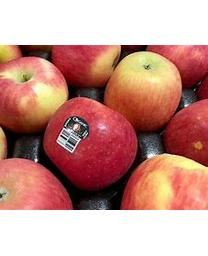apple: (41, 96, 137, 192), (106, 51, 181, 135), (0, 55, 68, 132), (123, 154, 207, 209), (1, 158, 73, 210), (50, 45, 120, 87), (163, 100, 206, 168)
